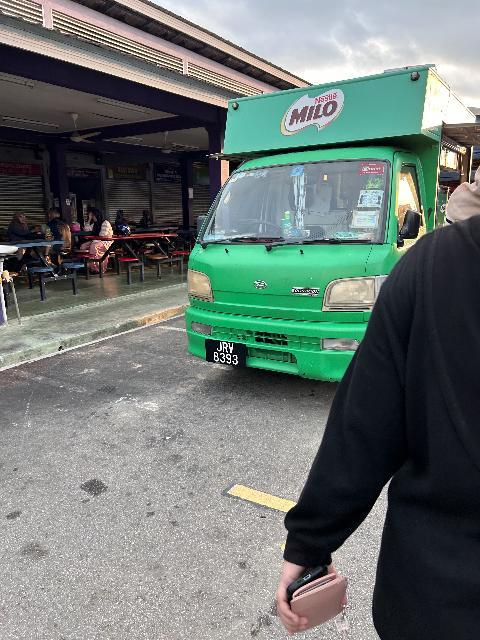JRV8393: (205, 337, 250, 371)
License_Plate: (205, 337, 250, 371)
car: (182, 59, 480, 391)
